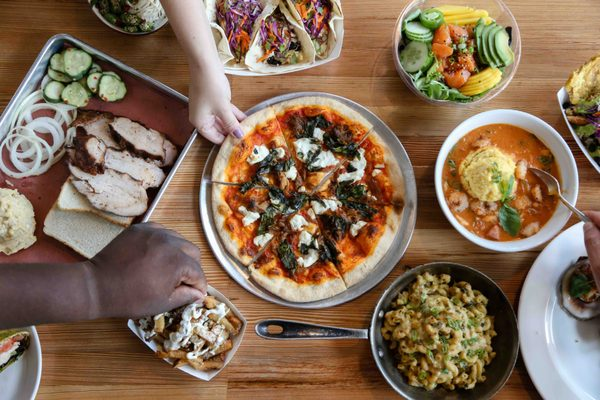salad: (254, 318, 368, 339)
sushi: (434, 108, 579, 252), (370, 261, 519, 397), (393, 0, 522, 104), (557, 53, 600, 176), (0, 326, 43, 398), (90, 0, 169, 35)
